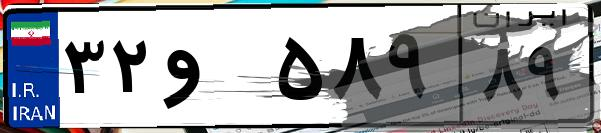2: (110, 28, 158, 98)
3: (57, 26, 110, 100)
5: (270, 28, 330, 110)
8: (330, 28, 385, 110), (475, 38, 525, 113)
9: (385, 28, 445, 110), (525, 38, 570, 115)
و: (158, 20, 270, 120)
